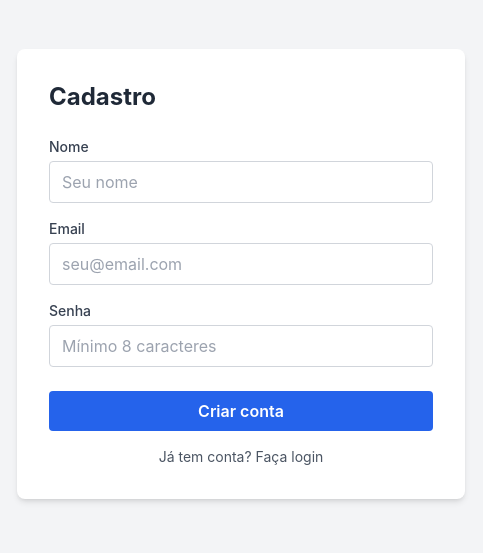
Scenario: Register component › shows error message when register throws
The image size is (483, 553).
Type "João" into the field labelled "Nome" at (241, 182), box top-left (49, 161), bottom-right (433, 203)
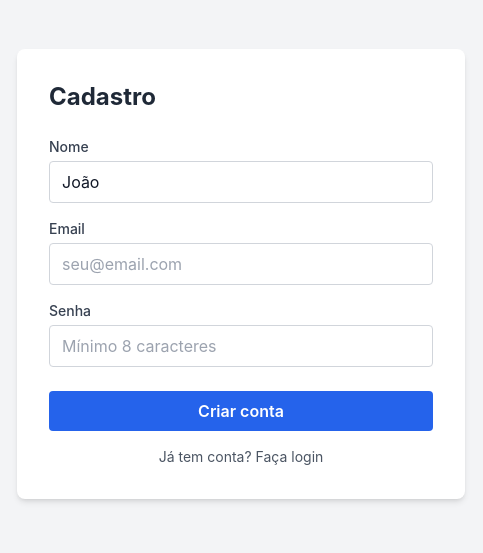
Type "joao@example.com" into the field labelled "Email" at (241, 264), box top-left (49, 243), bottom-right (433, 285)
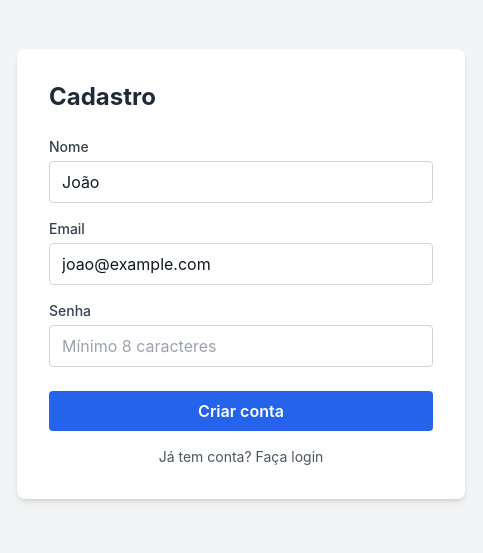
Type "senha1234" into the password field labelled "Senha" at (241, 346), box top-left (49, 325), bottom-right (433, 367)
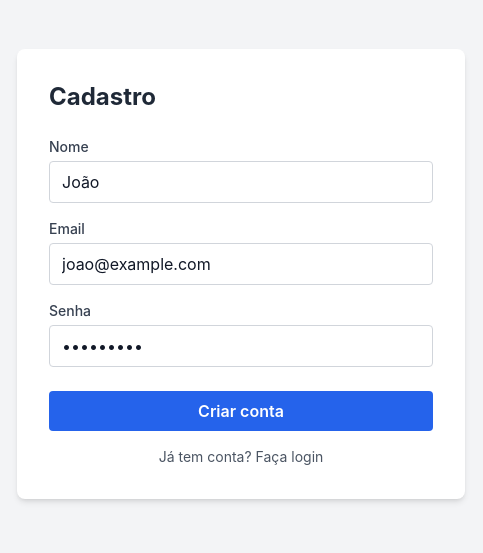
Click the button "Criar conta" at (241, 411), box top-left (49, 391), bottom-right (433, 431)
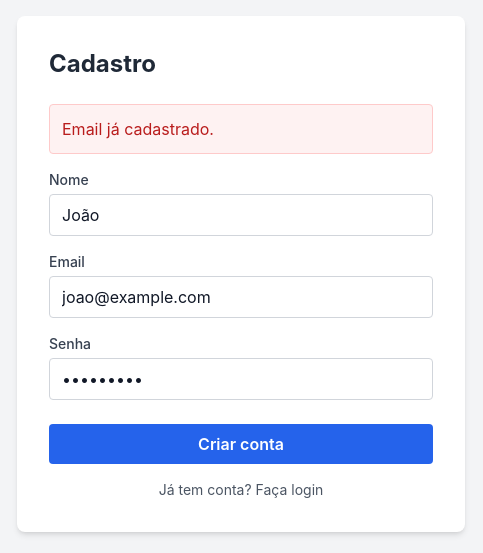
Expected: the text "Email já cadastrado." is shown, top-left (49, 104), bottom-right (433, 154)
